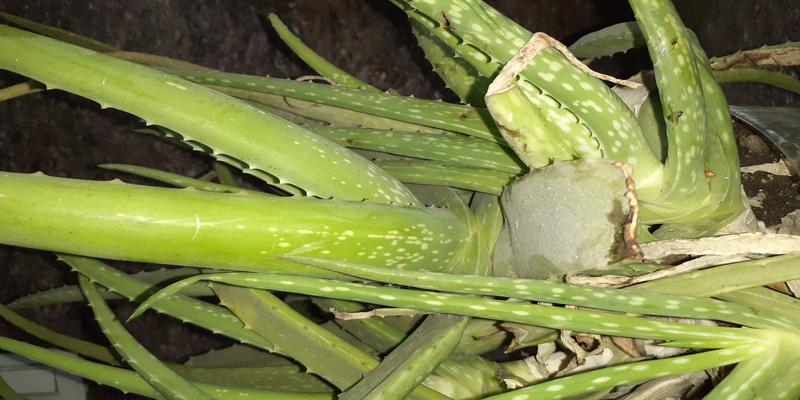Aloevera: (167, 63, 777, 398)
